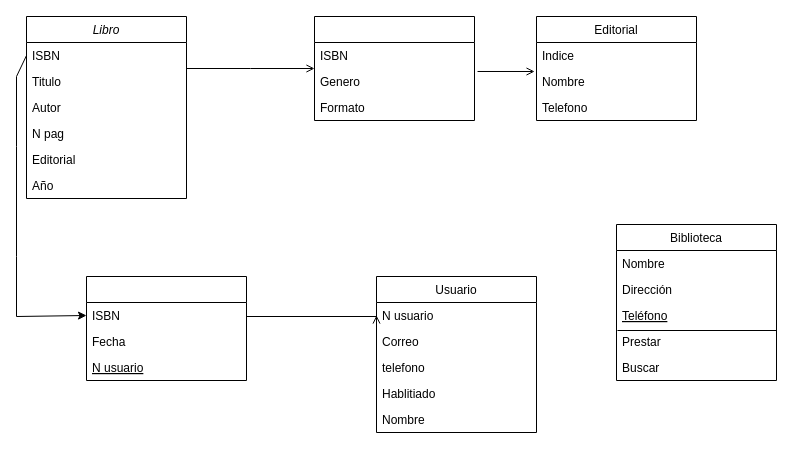
This 793x449 diagram has some shape labels left out. Here are the shapes that lost their labels. From the top down, the box of each, then its label:
(314, 16, 474, 120): Detalle_libro
(86, 276, 246, 380): Prestamo
